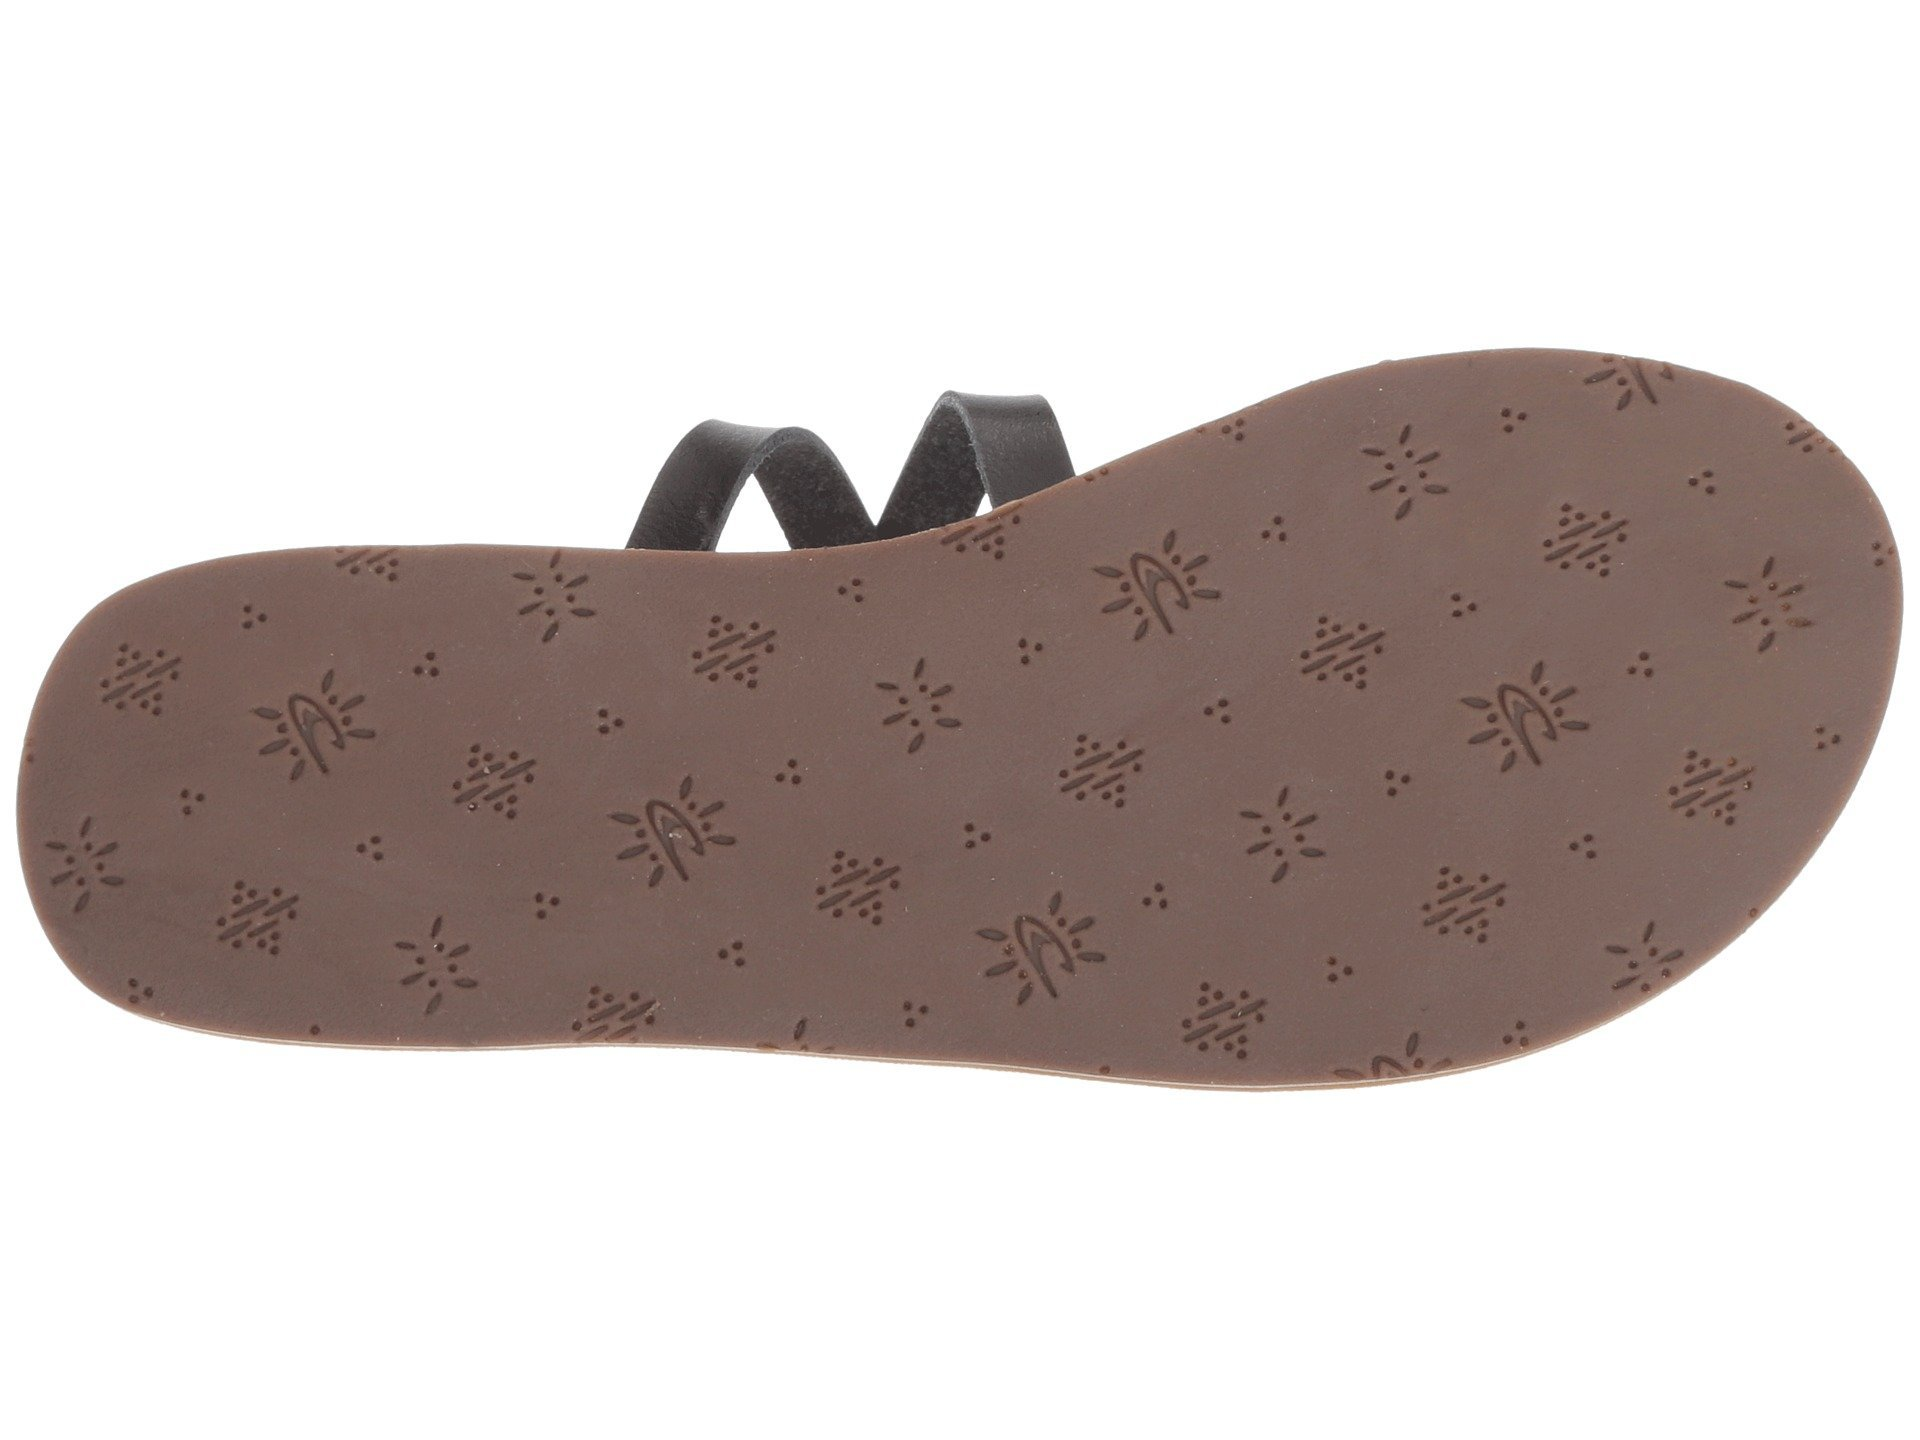circle: (759, 749, 1361, 1056), (1240, 451, 1736, 629), (1414, 812, 1678, 998), (434, 729, 574, 846), (373, 905, 502, 1027), (209, 858, 327, 980), (679, 585, 780, 723), (872, 649, 987, 768), (88, 622, 203, 738), (389, 632, 494, 700), (153, 759, 249, 827), (339, 826, 429, 879), (567, 690, 635, 746), (517, 874, 584, 923), (1798, 703, 1844, 768), (219, 594, 317, 622), (824, 567, 872, 616)
exclude: (597, 342, 1096, 546)
quad: (759, 749, 1361, 1056), (1240, 451, 1736, 629), (1414, 812, 1678, 998), (434, 729, 574, 846), (373, 905, 502, 1027), (209, 858, 327, 980), (679, 585, 780, 723), (872, 649, 987, 768), (88, 622, 203, 738), (153, 759, 249, 827), (339, 826, 429, 879), (567, 690, 635, 746)
